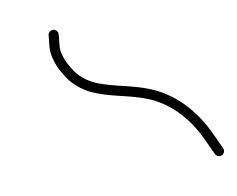b: (145, 84, 235, 171)
